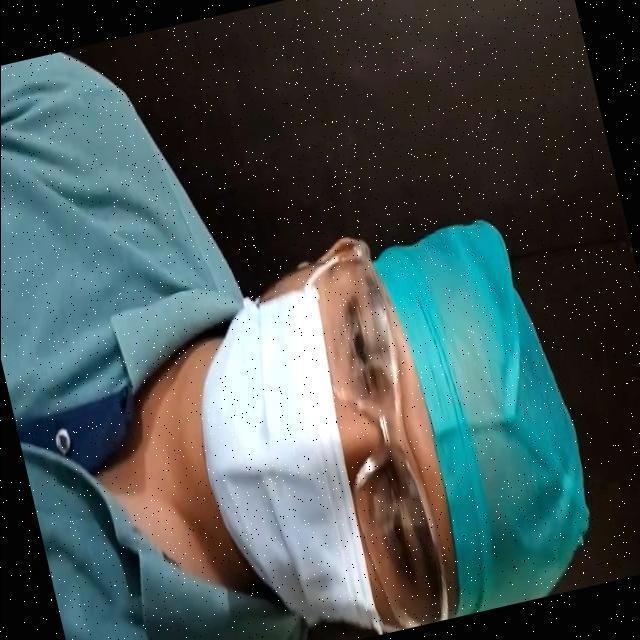gloves: (373, 214, 585, 616)
mask: (163, 276, 355, 639)
